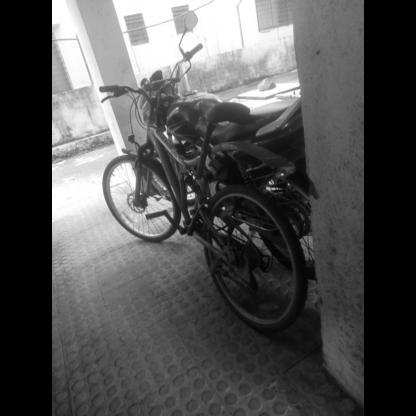Bicycle: (86, 76, 309, 343)
